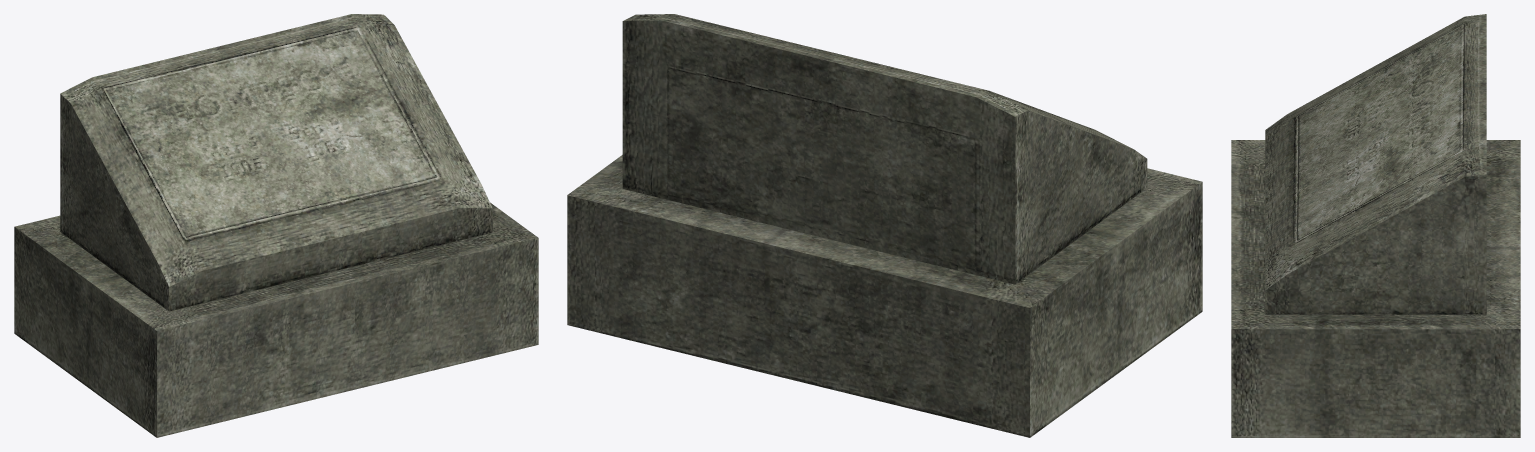
Rendered from Gravestone05.dae.
3 views of the same model, side by side, from view 1: azimuth 30°, elevation 25°; view 2: azimuth 150°, elevation 25°; view 3: azimuth 270°, elevation 25° (orthographic). The views are drawn at different scales.
Visible parts, largest first — view 1: Gravestone05; view 2: Gravestone05; view 3: Gravestone05.
Boxes of the visible parts, <box> form: Gravestone05: <box>14,14,538,437</box>; Gravestone05: <box>567,14,1202,437</box>; Gravestone05: <box>1231,14,1520,437</box>.
Bounding box in the file's own units: 0.9401 × 0.6076 × 0.5973.
